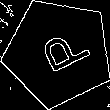P_SW: (27, 25, 89, 80)
